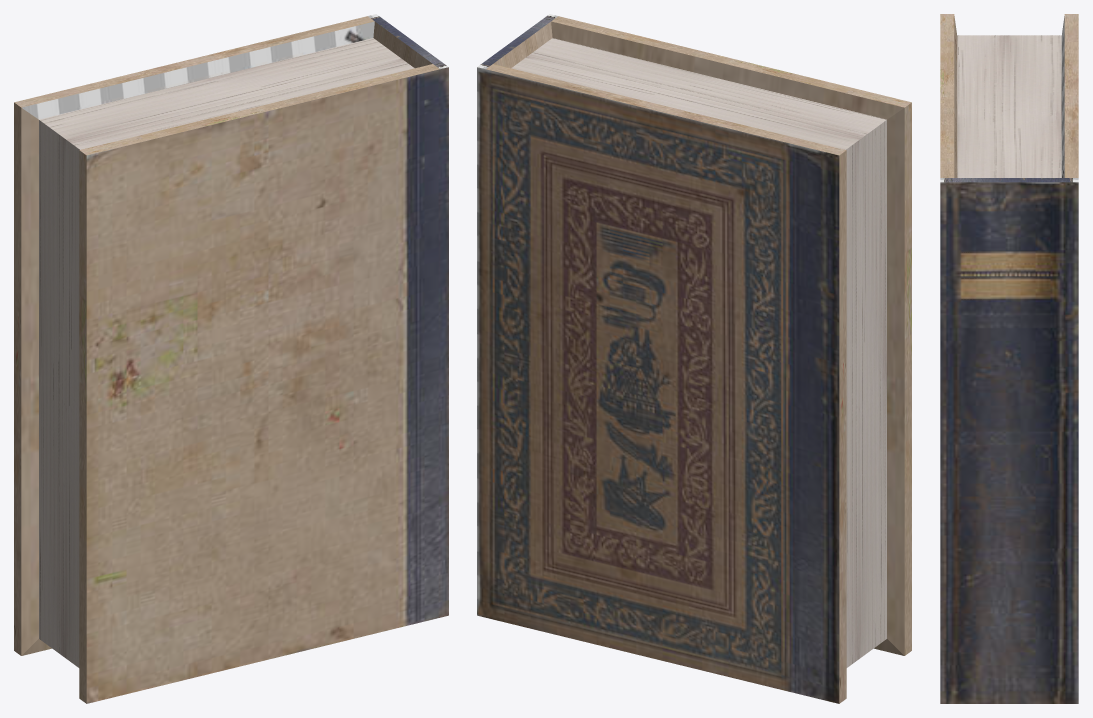
File: book2.fbx
3 views of the same model, side by side, from view 1: azimuth 30°, elevation 25°; view 2: azimuth 150°, elevation 25°; view 3: azimuth 270°, elevation 25° (orthographic). The views are drawn at different scales.
Visible parts, largest first — view 1: Cube; view 2: Cube; view 3: Cube.
Part boxes in pixels (bbox=[...]): Cube: bbox=[14, 14, 448, 703]; Cube: bbox=[477, 14, 911, 703]; Cube: bbox=[940, 14, 1078, 703].
Bounding box in the file's own units: 138 × 200 × 48.
